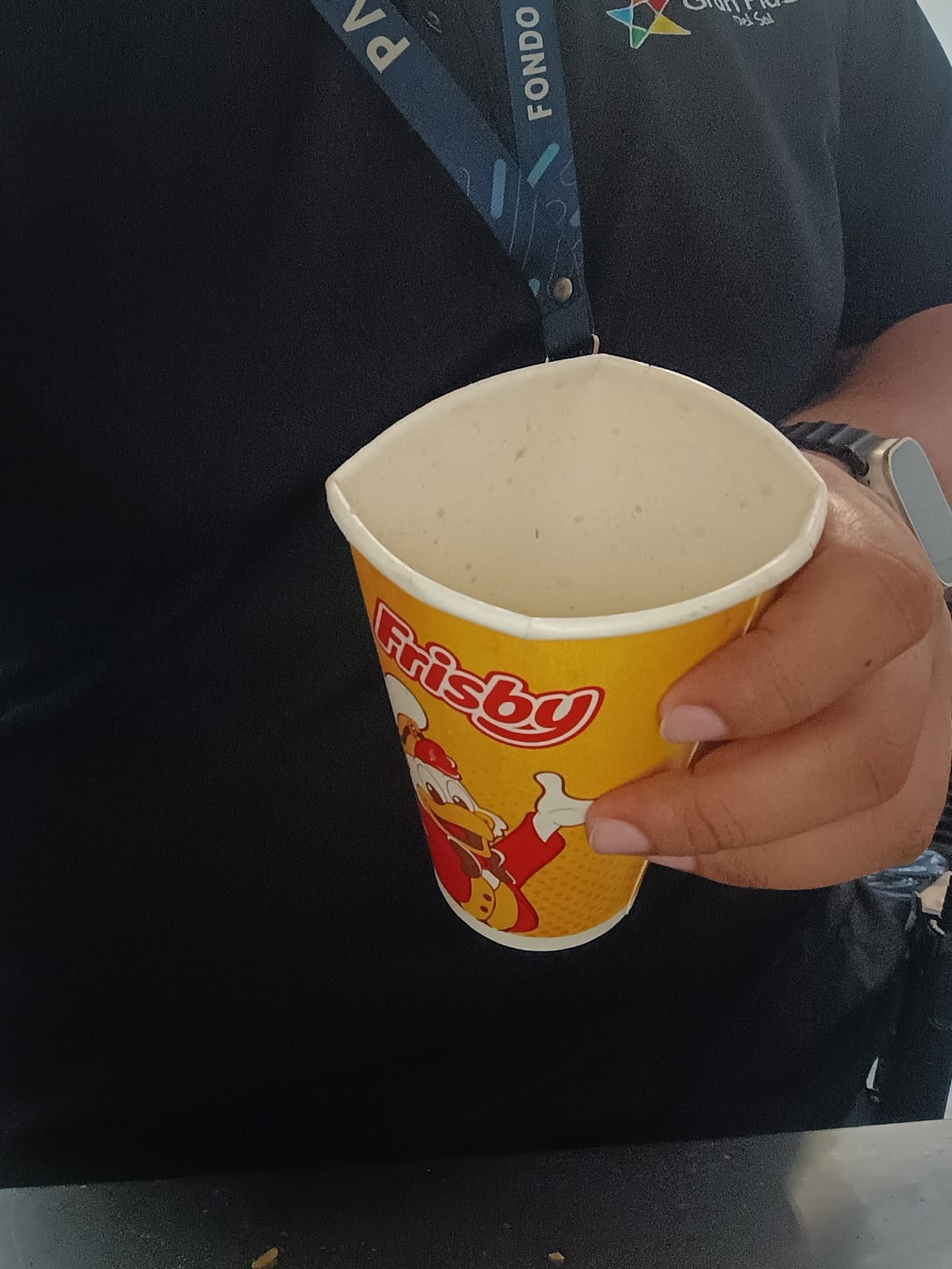Carton: (324, 356, 825, 950)
